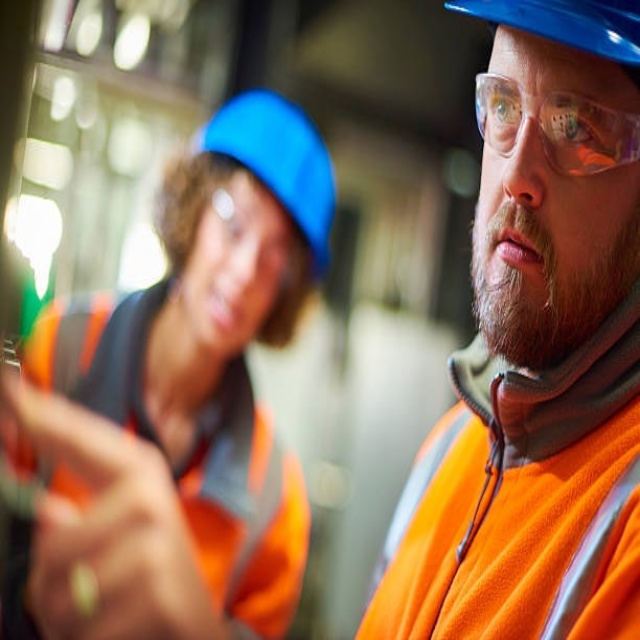Gafas: (474, 67, 639, 184)
Sin_guantes: (3, 363, 226, 640)
Sin_mascara: (478, 204, 562, 323)
